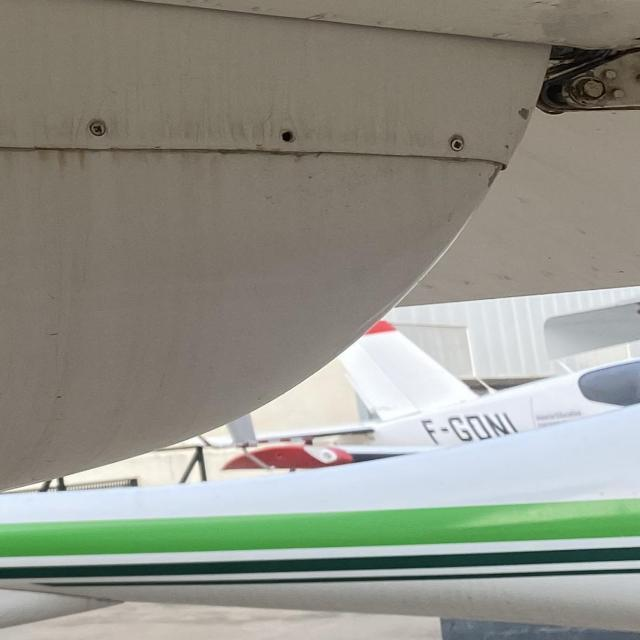Missing-head: (281, 129, 297, 143)
Paint-off: (517, 106, 529, 121)
